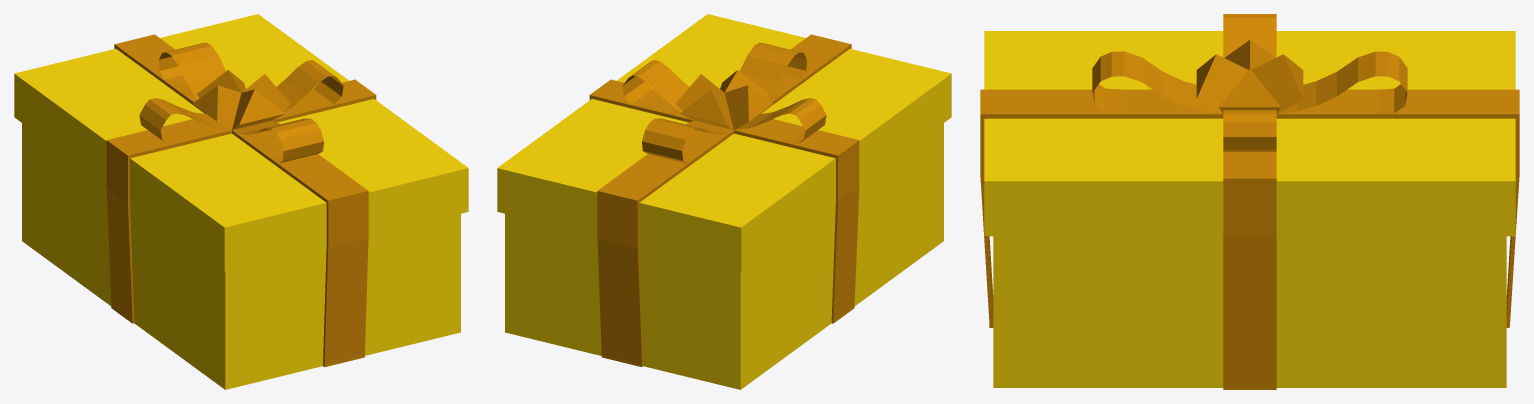
The model's file is Present_Rectangle_Yellow.fbx.
The picture shows the model from 3 angles, left to right: view 1: azimuth 30°, elevation 25°; view 2: azimuth 150°, elevation 25°; view 3: azimuth 270°, elevation 25°; orthographic projection. The views are drawn at different scales.
Parts seen in each view (by area): view 1: Present; view 2: Present; view 3: Present.
Part boxes in pixels (<box>): Present: <box>14,14,468,389</box>; Present: <box>497,14,951,389</box>; Present: <box>980,14,1519,389</box>.
Size of the model in its own units: 164 by 130 by 244.
